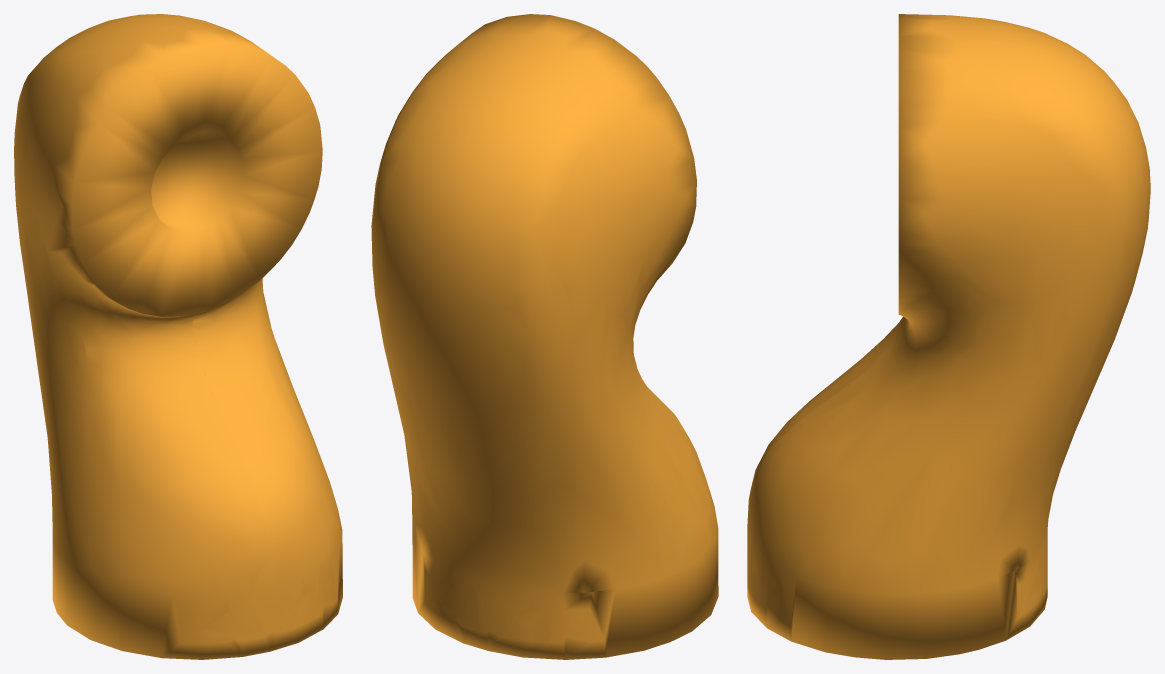
3 renders of one model, left to right at view 1: azimuth 30°, elevation 25°; view 2: azimuth 150°, elevation 25°; view 3: azimuth 270°, elevation 25°, orthographic. The views are drawn at different scales.
Visible parts, largest first — view 1: Link_3; view 2: Link_3; view 3: Link_3.
Part boxes in pixels (x1,y1,x2,y2): Link_3: (14,14,342,659); Link_3: (371,14,718,659); Link_3: (747,14,1150,659).
Size of the model in its own units: 0.1361 by 0.1826 by 0.2933.
